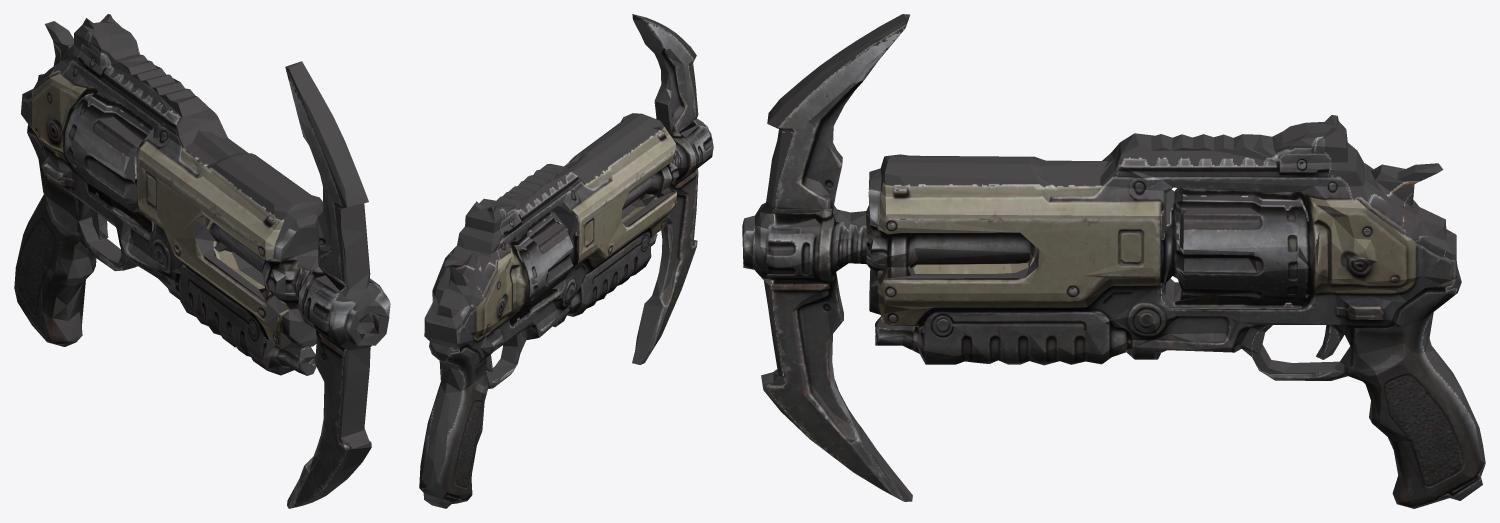
Rendered from grapple.glb.
3 views of the same model, side by side, from view 1: azimuth 30°, elevation 25°; view 2: azimuth 150°, elevation 25°; view 3: azimuth 270°, elevation 25° (orthographic). The views are drawn at different scales.
Visible parts, largest first — view 1: Mesh_0; view 2: Mesh_0; view 3: Mesh_0.
Boxes of the visible parts, <box> form: Mesh_0: <box>14,14,390,508</box>; Mesh_0: <box>419,14,713,508</box>; Mesh_0: <box>742,14,1485,508</box>.
Size of the model in its own units: 0.0556 by 0.254 by 0.35.
Materials: 1 (1 with a texture image).
